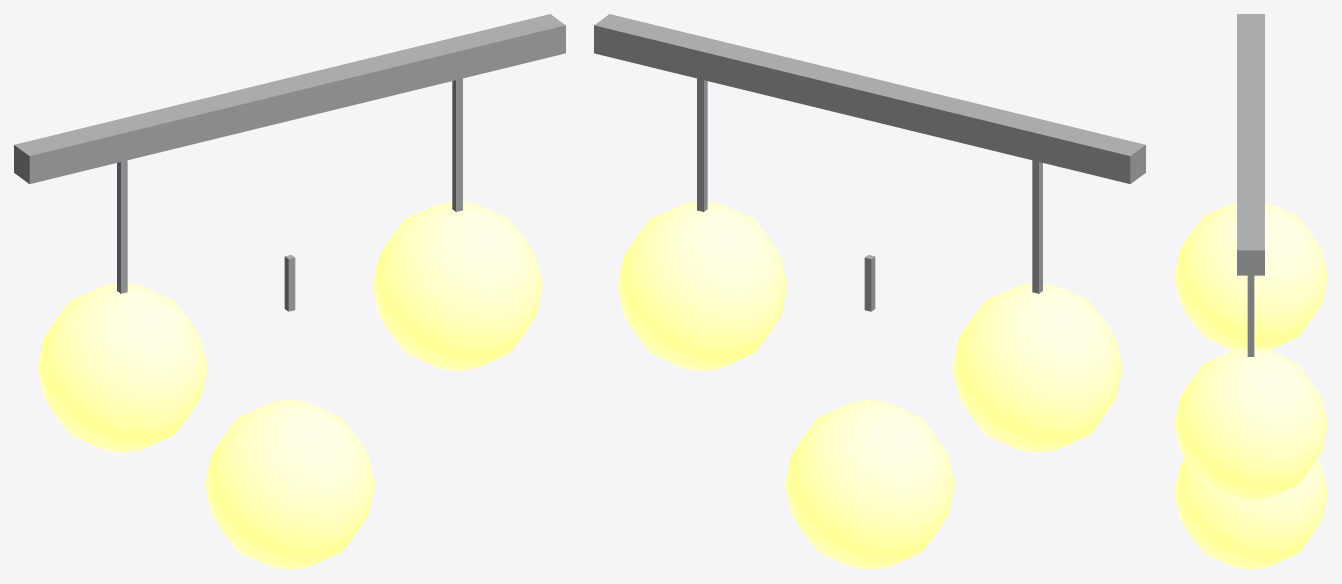
File: pawn_balls.glb
3 views of the same model, side by side, from view 1: azimuth 30°, elevation 25°; view 2: azimuth 150°, elevation 25°; view 3: azimuth 270°, elevation 25° (orthographic). The views are drawn at different scales.
Parts seen in each view (by area): view 1: Sign; view 2: Sign; view 3: Sign.
Part boxes in pixels (x1,y1,x2,y2): Sign: (14, 14, 565, 569); Sign: (594, 14, 1145, 569); Sign: (1174, 14, 1327, 569).
Bounding box in the file's own units: 1.6 × 1.36 × 0.44.
